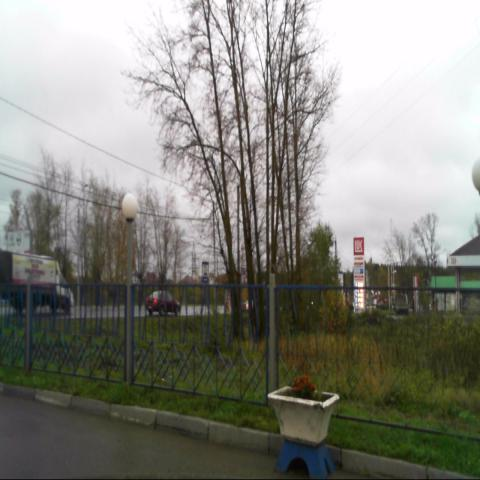7_5: (202, 258, 211, 284)
